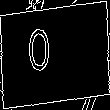O_S: (43, 28, 67, 82)
